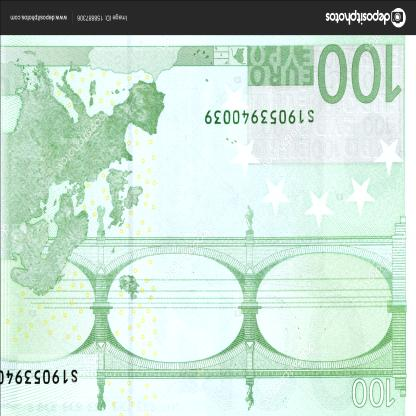euro_banknote: (1, 37, 407, 416)
